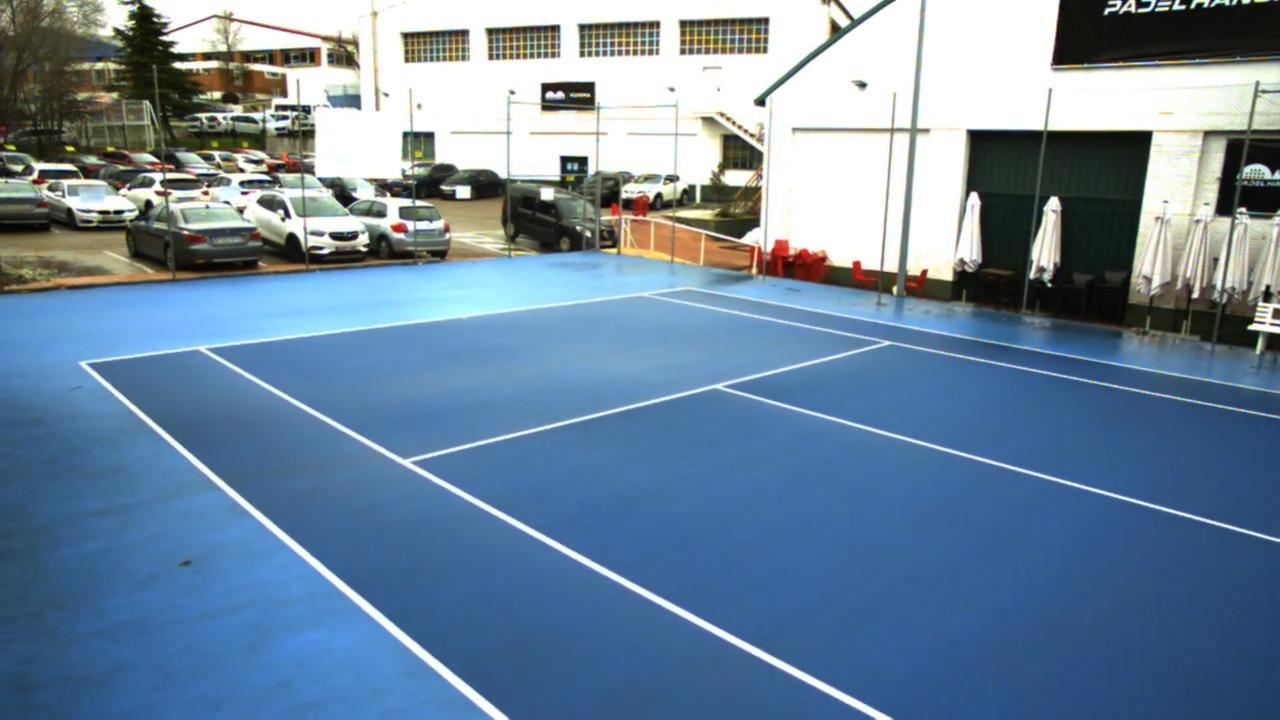cancha_tenis: (200, 291, 1280, 720)
point_f1: (189, 332, 217, 359)
point_f2: (634, 281, 662, 307)
point_fc1: (457, 310, 472, 322)
point_i1: (390, 443, 430, 477)
point_i2: (875, 332, 903, 357)
point_ic1: (706, 371, 737, 401)
